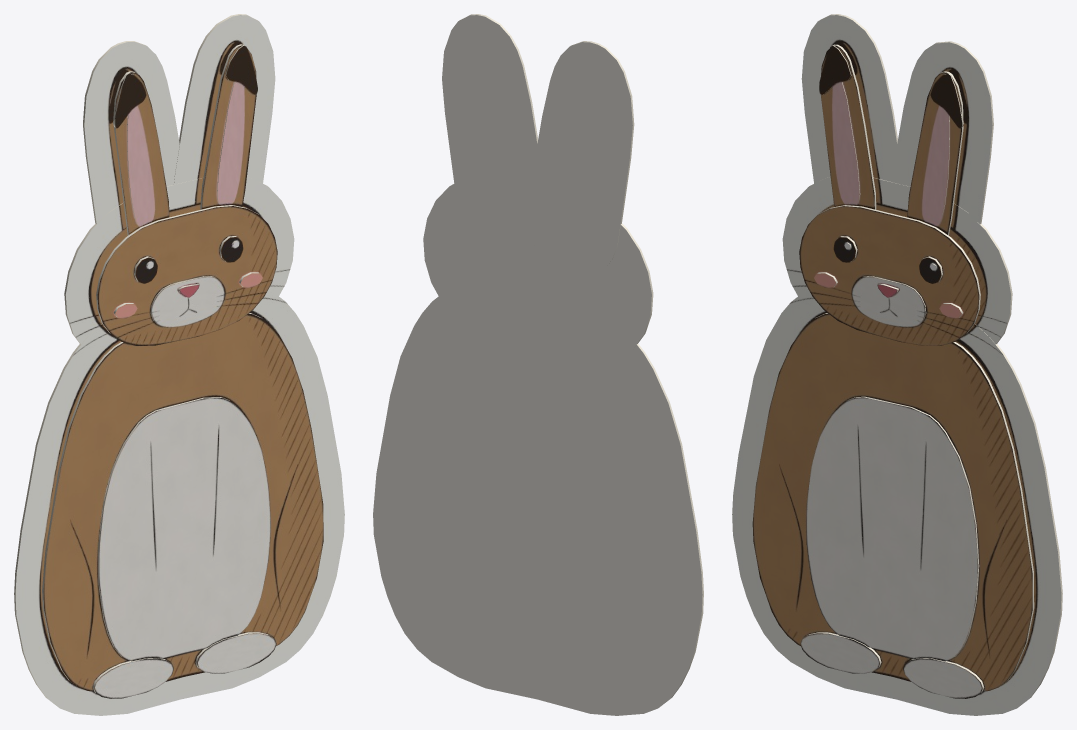
The model's file is hare-ChYSC6rP.glb.
3 renders of one model, left to right at view 1: azimuth 30°, elevation 25°; view 2: azimuth 150°, elevation 25°; view 3: azimuth 330°, elevation 25°, orthographic.
Visible parts, largest first — view 1: hare.001; view 2: hare.001; view 3: hare.001.
Part boxes in pixels (x1,y1,x2,y2): hare.001: (14, 14, 344, 715); hare.001: (373, 14, 703, 715); hare.001: (732, 14, 1062, 715).
Size of the model in its own units: 0.462 by 0.9001 by 0.0284.
3 materials, 1 textured.
